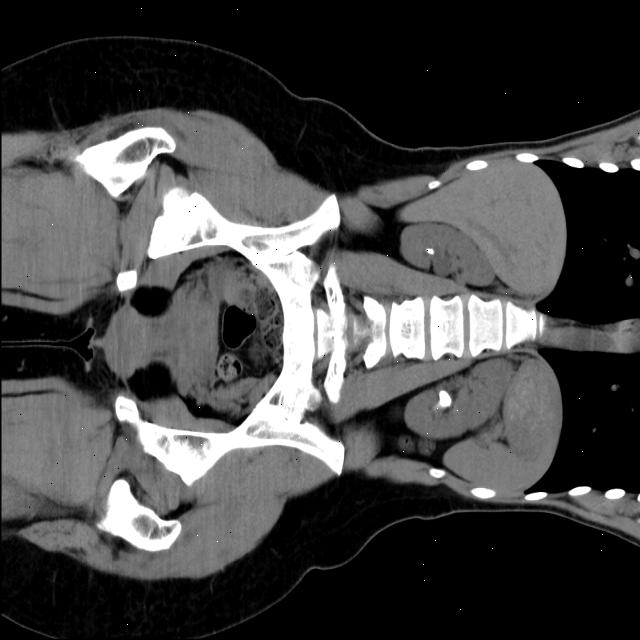kidneystone: (437, 390, 451, 410), (425, 247, 434, 255)
